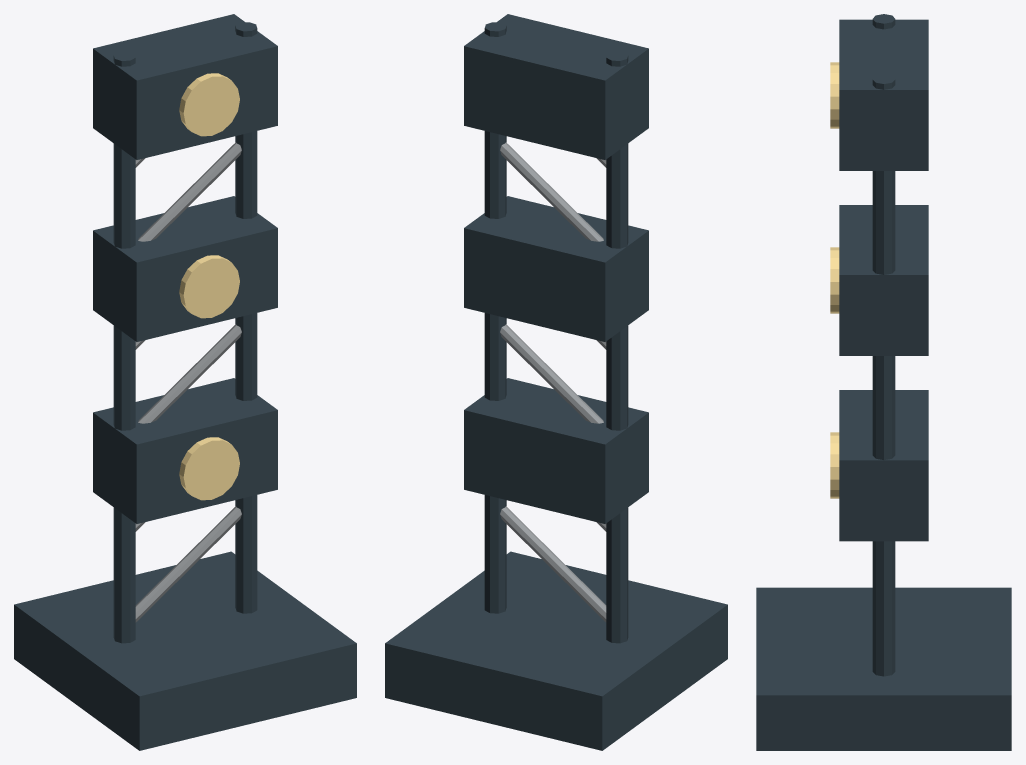
Rendered from light_tower.glb.
The picture shows the model from 3 angles, left to right: view 1: azimuth 30°, elevation 25°; view 2: azimuth 150°, elevation 25°; view 3: azimuth 270°, elevation 25°; orthographic projection.
Parts seen in each view (by area): view 1: base, lamp.002, lamp.001, lamp, truss, truss.001, lens.002, lens, lens.001, brace0, brace0.002, brace0.004; view 2: base, lamp.002, lamp, lamp.001, truss, truss.001, brace0, brace0.002, brace0.004; view 3: base, lamp.002, lamp, lamp.001, truss.001, lens, lens.001, lens.002.
Part boxes in pixels (x1=…): base: x1=14, y1=551, x2=356, y2=750; lamp.002: x1=93, y1=14, x2=277, y2=159; lamp.001: x1=93, y1=196, x2=277, y2=341; lamp: x1=93, y1=378, x2=277, y2=523; truss: x1=113, y1=52, x2=135, y2=643; truss.001: x1=235, y1=22, x2=257, y2=613; lens.002: x1=179, y1=73, x2=239, y2=136; lens: x1=179, y1=437, x2=239, y2=500; lens.001: x1=179, y1=255, x2=239, y2=318; brace0: x1=135, y1=506, x2=241, y2=622; brace0.002: x1=138, y1=324, x2=241, y2=423; brace0.004: x1=138, y1=142, x2=241, y2=241; base: x1=385, y1=551, x2=727, y2=750; lamp.002: x1=464, y1=14, x2=648, y2=159; lamp: x1=464, y1=378, x2=648, y2=523; lamp.001: x1=464, y1=196, x2=648, y2=341; truss: x1=606, y1=52, x2=628, y2=643; truss.001: x1=484, y1=22, x2=506, y2=613; brace0: x1=500, y1=506, x2=606, y2=622; brace0.002: x1=500, y1=324, x2=603, y2=423; brace0.004: x1=500, y1=142, x2=603, y2=241; base: x1=756, y1=587, x2=1011, y2=750; lamp.002: x1=839, y1=19, x2=928, y2=170; lamp: x1=839, y1=390, x2=928, y2=541; lamp.001: x1=839, y1=205, x2=928, y2=355; truss.001: x1=872, y1=74, x2=895, y2=676; lens: x1=830, y1=432, x2=839, y2=498; lens.001: x1=830, y1=247, x2=839, y2=313; lens.002: x1=830, y1=62, x2=839, y2=128.
Bounding box in the file's own units: 1 × 2.8 × 1.
